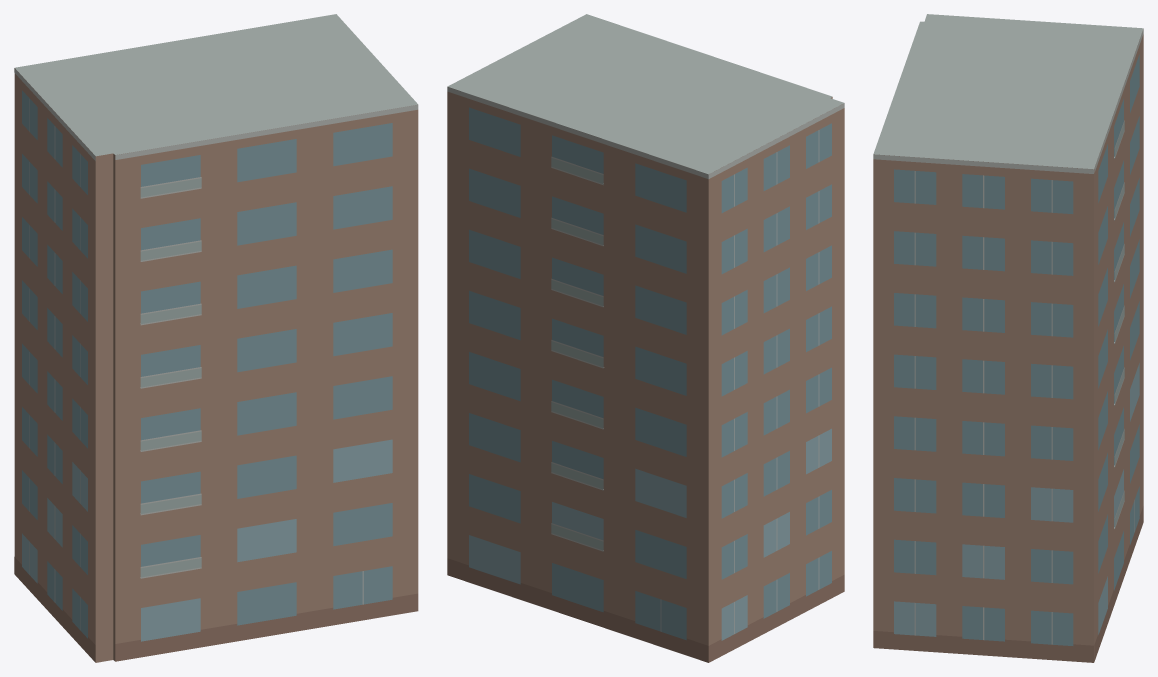
The model's file is survey-upis-33011512.glb.
The picture shows the model from 3 angles, left to right: view 1: azimuth 30°, elevation 25°; view 2: azimuth 150°, elevation 25°; view 3: azimuth 270°, elevation 25°; orthographic projection. The views are drawn at different scales.
Visible parts, largest first — view 1: survey-upis-33011512.tmp; view 2: survey-upis-33011512.tmp; view 3: survey-upis-33011512.tmp.
Boxes of the visible parts, <box> form: survey-upis-33011512.tmp: <box>14,14,418,662</box>; survey-upis-33011512.tmp: <box>447,14,844,662</box>; survey-upis-33011512.tmp: <box>873,14,1143,662</box>.
Bounding box in the file's own units: 16.46 × 24.4 × 12.12.
